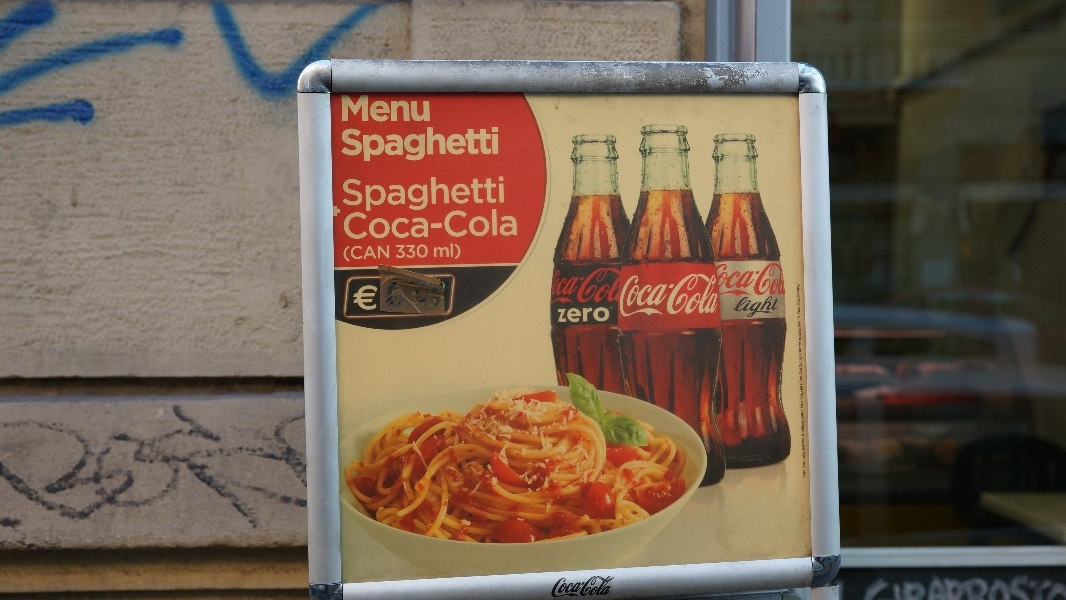text: (625, 273, 640, 320), (641, 273, 656, 320), (657, 273, 672, 320), (673, 273, 688, 320), (689, 273, 704, 320), (705, 273, 720, 320), (561, 267, 576, 309), (577, 267, 592, 309), (593, 267, 608, 309), (353, 126, 368, 166), (369, 126, 384, 166), (385, 126, 400, 166), (401, 126, 416, 166), (417, 126, 432, 166), (433, 126, 448, 166), (449, 126, 464, 166), (465, 126, 480, 166), (481, 126, 496, 166), (353, 175, 368, 214), (369, 175, 384, 214), (385, 175, 400, 214), (401, 175, 416, 214), (417, 175, 432, 214), (433, 175, 448, 214), (449, 175, 464, 214), (465, 175, 480, 214), (481, 175, 496, 214), (721, 262, 736, 299), (737, 262, 752, 299), (753, 262, 768, 299), (769, 262, 784, 299), (609, 267, 622, 309), (353, 208, 368, 243), (369, 208, 384, 243), (385, 208, 400, 243), (401, 208, 416, 243), (417, 208, 432, 243), (433, 208, 448, 243), (449, 208, 464, 243), (465, 208, 480, 243), (481, 208, 496, 243), (497, 208, 512, 243), (417, 93, 433, 124), (340, 126, 352, 166), (353, 93, 368, 124), (369, 93, 384, 124), (385, 93, 400, 124), (401, 93, 416, 124), (341, 175, 352, 214), (497, 175, 507, 214), (353, 285, 368, 311), (341, 208, 352, 243), (561, 574, 576, 599), (577, 574, 592, 599), (593, 574, 608, 599), (340, 93, 352, 124), (865, 576, 880, 600), (881, 576, 896, 600), (897, 576, 912, 600), (913, 576, 928, 600), (929, 576, 944, 600), (945, 576, 960, 600), (961, 576, 976, 600), (977, 576, 992, 600), (993, 576, 1008, 600), (1009, 576, 1024, 600), (1025, 576, 1040, 600), (1041, 576, 1056, 600), (737, 297, 752, 319), (753, 297, 768, 319), (353, 244, 368, 264), (369, 244, 384, 264), (548, 574, 560, 599), (561, 306, 576, 325), (577, 306, 592, 325), (593, 306, 608, 325), (433, 243, 448, 261), (769, 297, 781, 319), (449, 243, 463, 261), (513, 208, 520, 243), (401, 244, 416, 260), (802, 462, 816, 479), (369, 285, 378, 311), (801, 436, 816, 451), (609, 574, 618, 599), (555, 267, 560, 309), (417, 244, 430, 260), (715, 262, 720, 299), (343, 244, 352, 264), (801, 421, 816, 433), (1057, 576, 1064, 600), (497, 126, 501, 166), (802, 452, 816, 461), (385, 244, 391, 264), (731, 297, 736, 319), (622, 273, 624, 320), (395, 244, 400, 260), (556, 306, 560, 325), (609, 306, 624, 311), (861, 576, 864, 600), (796, 283, 800, 299), (609, 306, 612, 325), (802, 433, 816, 437), (801, 409, 805, 421), (801, 393, 804, 409), (801, 368, 804, 384), (797, 299, 800, 315), (721, 273, 722, 320), (801, 383, 816, 386), (785, 262, 786, 299), (798, 329, 800, 342), (801, 329, 803, 342), (798, 342, 800, 353), (801, 386, 804, 393), (799, 368, 800, 384), (801, 353, 803, 361), (798, 321, 800, 329), (801, 361, 803, 368), (798, 315, 800, 321), (801, 342, 802, 353), (799, 353, 800, 361), (799, 361, 800, 368)
